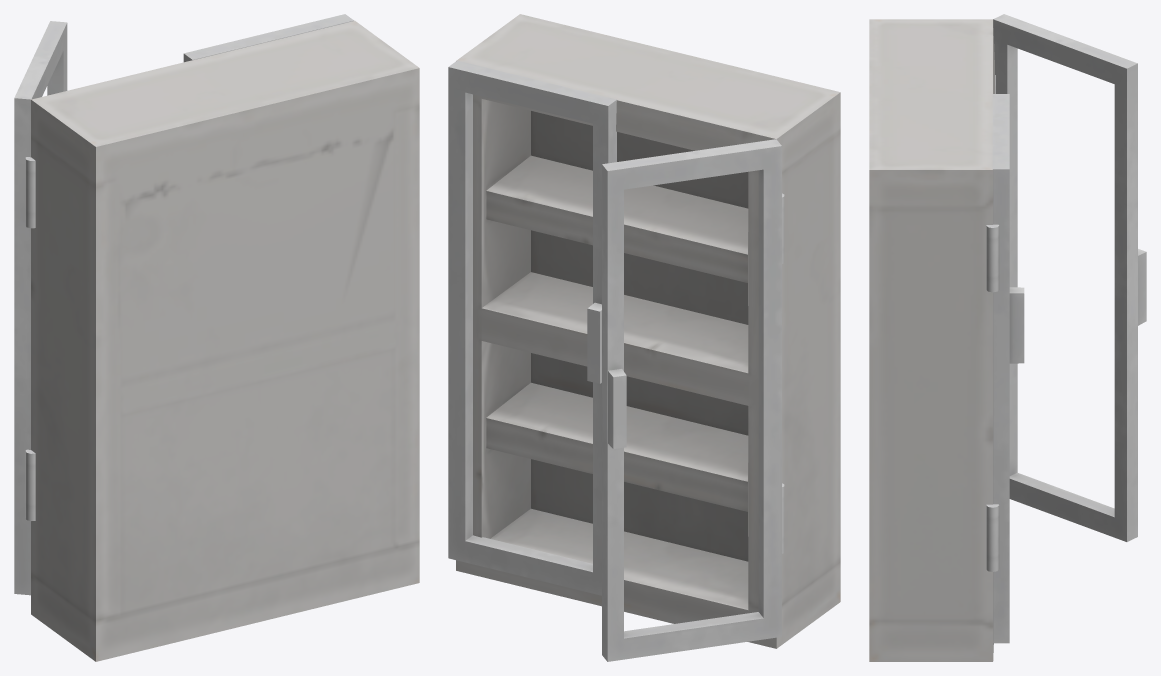
The model's file is Pfb_Indoors_Study_Shelf_JLAB04.fbx.
The picture shows the model from 3 angles, left to right: view 1: azimuth 30°, elevation 25°; view 2: azimuth 150°, elevation 25°; view 3: azimuth 270°, elevation 25°; orthographic projection. The views are drawn at different scales.
Parts seen in each view (by area): view 1: Mat_Indoors_Study_01_2_JLAB, MAT_Shop_Refridge_01_3 1; view 2: Mat_Indoors_Study_01_2_JLAB, MAT_Shop_Refridge_01_3 1; view 3: Mat_Indoors_Study_01_2_JLAB, MAT_Shop_Refridge_01_3 1.
Part boxes in pixels (box(x1,y1,x2,y2)): Mat_Indoors_Study_01_2_JLAB: box(31, 20, 419, 661); MAT_Shop_Refridge_01_3 1: box(14, 14, 353, 595); Mat_Indoors_Study_01_2_JLAB: box(456, 14, 840, 648); MAT_Shop_Refridge_01_3 1: box(448, 60, 784, 661); Mat_Indoors_Study_01_2_JLAB: box(869, 19, 994, 661); MAT_Shop_Refridge_01_3 1: box(986, 14, 1146, 643).
Size of the model in its own units: 1.86 by 2.69 by 1.37.
Materials: 2 (2 with a texture image).
